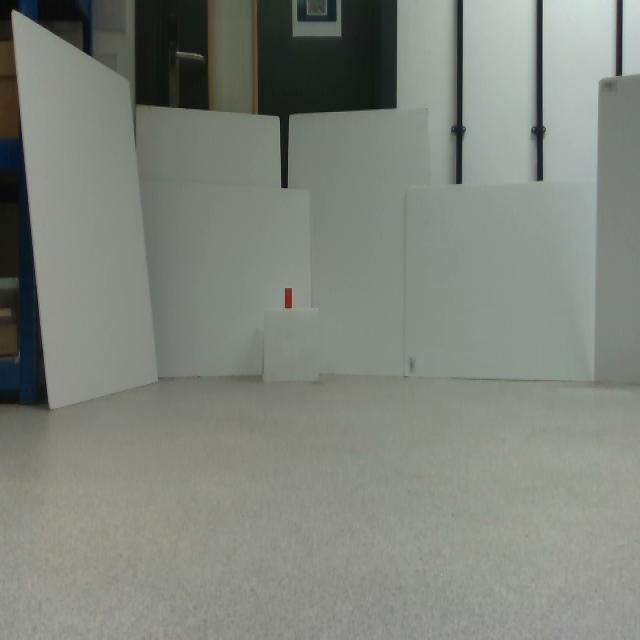red_cylinder: (285, 288, 292, 308)
